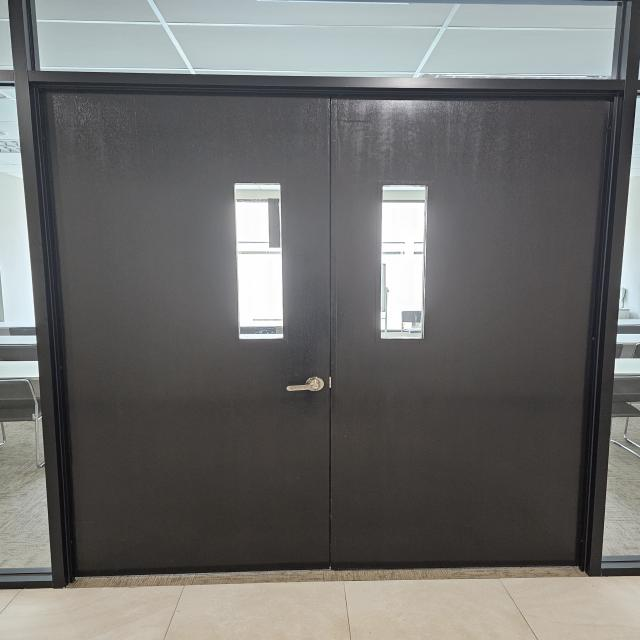door: (27, 80, 623, 579)
